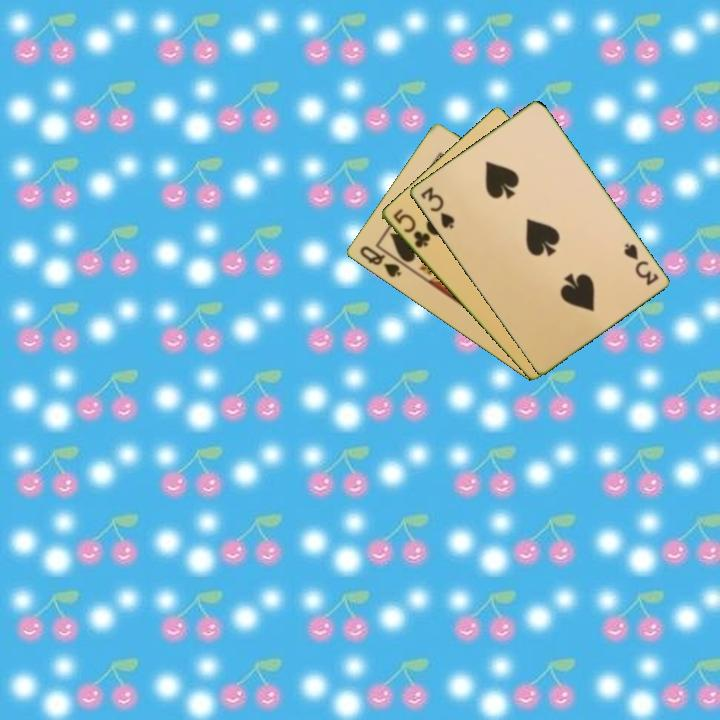3s: (620, 239, 661, 288), (417, 183, 457, 232)
5c: (389, 205, 433, 251)
Qs: (356, 242, 404, 281)
